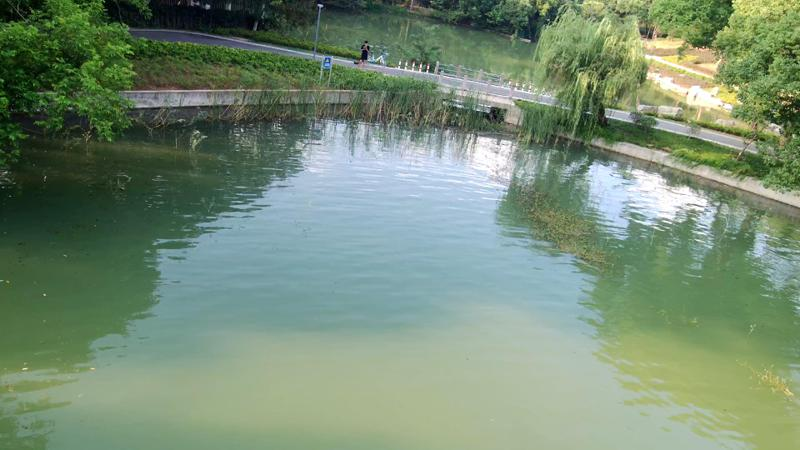passerby: (356, 38, 371, 71)
